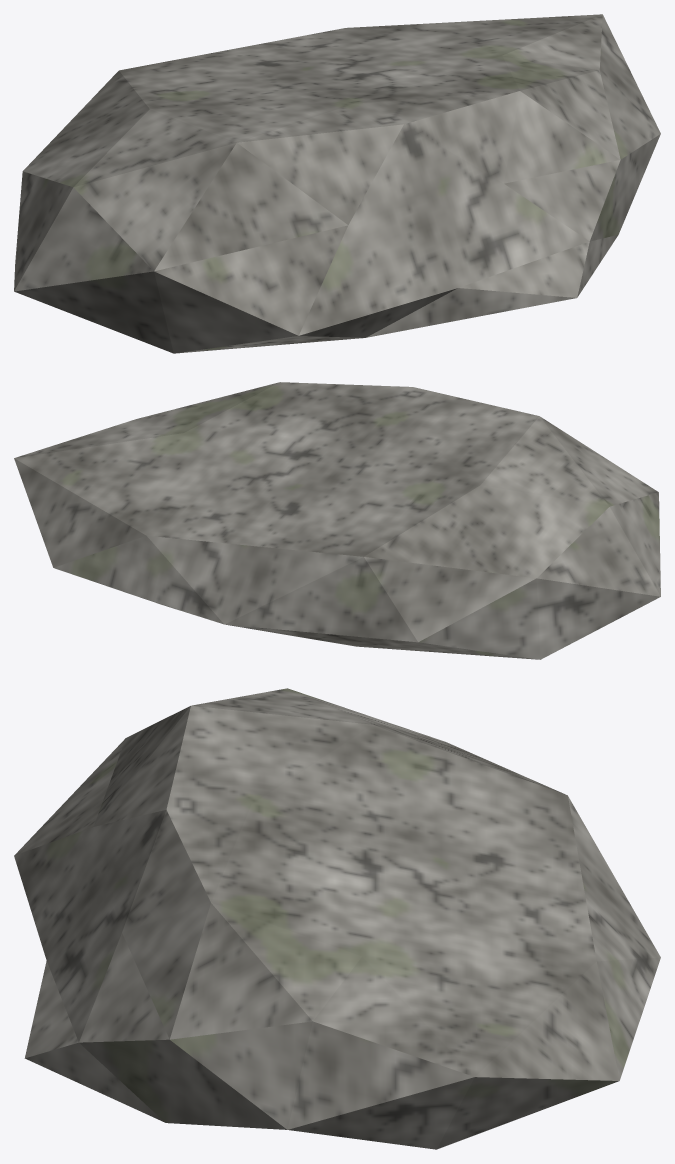
The model's file is kamen_plochy.glb.
3 renders of one model, top to bottom at view 1: azimuth 30°, elevation 25°; view 2: azimuth 150°, elevation 25°; view 3: azimuth 270°, elevation 25°, orthographic. The views are drawn at different scales.
Visible parts, largest first — view 1: kamen; view 2: kamen; view 3: kamen.
Boxes of the visible parts, left/top/right/bottom form: kamen: left=14, top=14, right=660, bottom=353; kamen: left=14, top=382, right=660, bottom=659; kamen: left=14, top=688, right=660, bottom=1149.
Bounding box in the file's own units: 2.8 × 0.7 × 2.
1 material, 1 textured.
